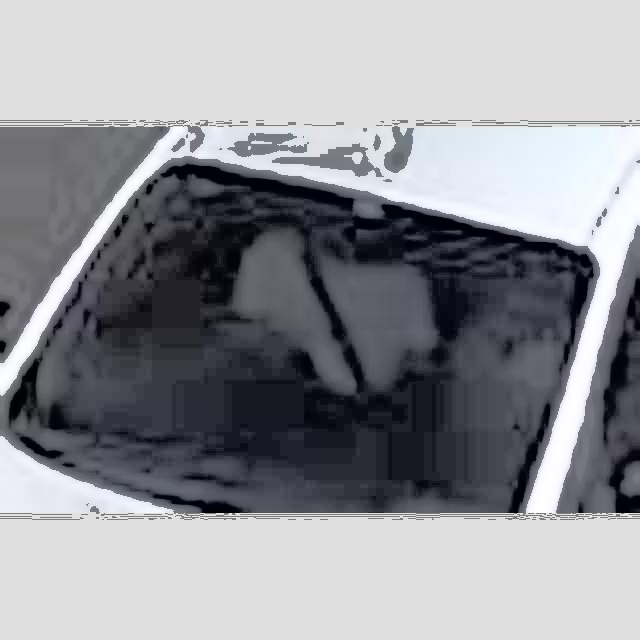pakai: (209, 222, 469, 437)
